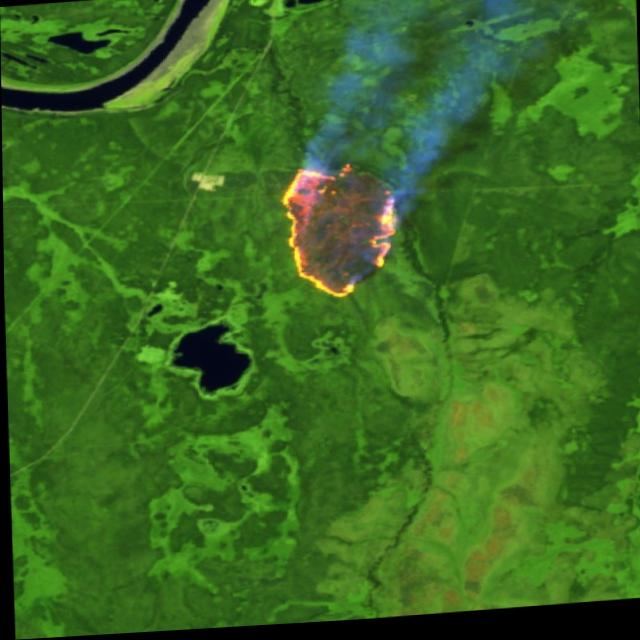fire: (281, 162, 403, 306)
